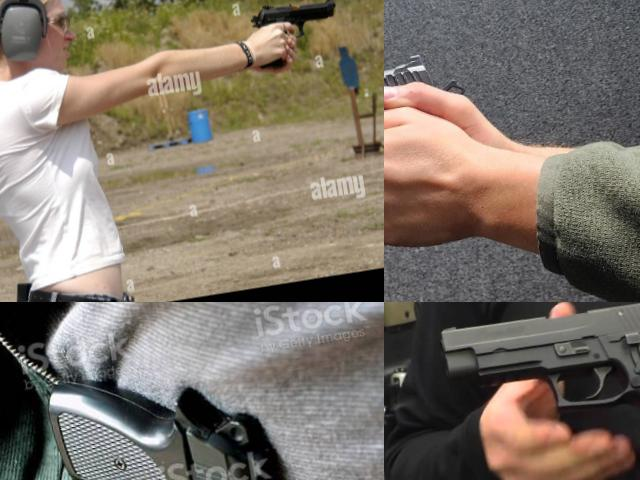handgun: (37, 341, 310, 480), (432, 302, 640, 471), (384, 44, 508, 172), (245, 0, 346, 74), (384, 378, 453, 480)
